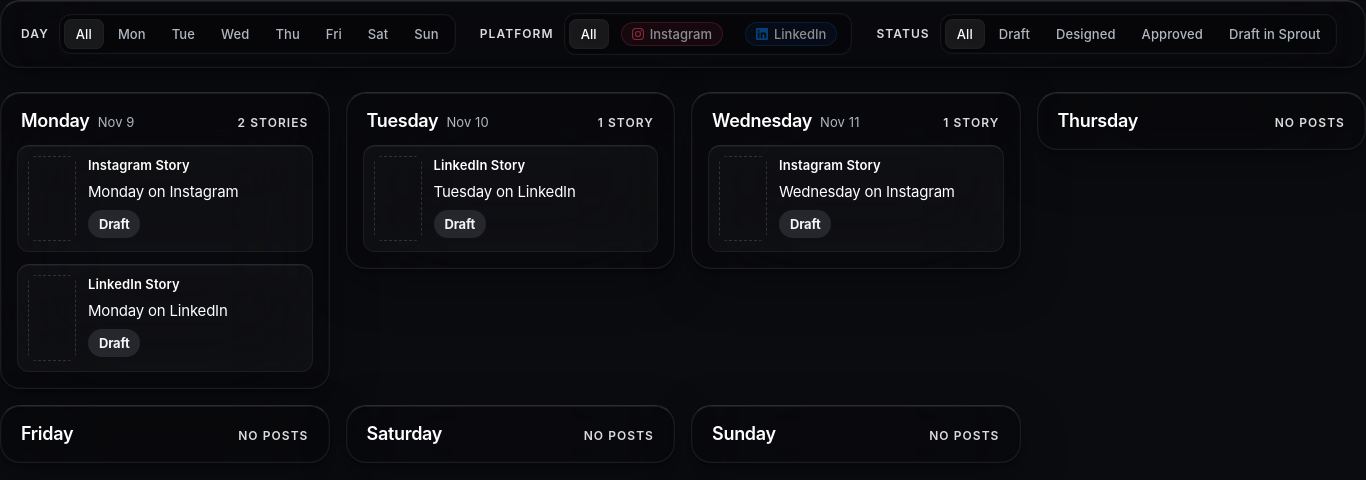
Test case: the client calendar and a report's content ideas › hide what the platform filter leaves out and count what is left beside the filter
This screenshot has width=1366, height=480.
Expected: the text "Monday on LinkedIn" is shown, x1=88 y1=301 x2=228 y2=320
Click the button "Instagram" at x=672, y=34, box x1=611 y1=18 x2=733 y2=50
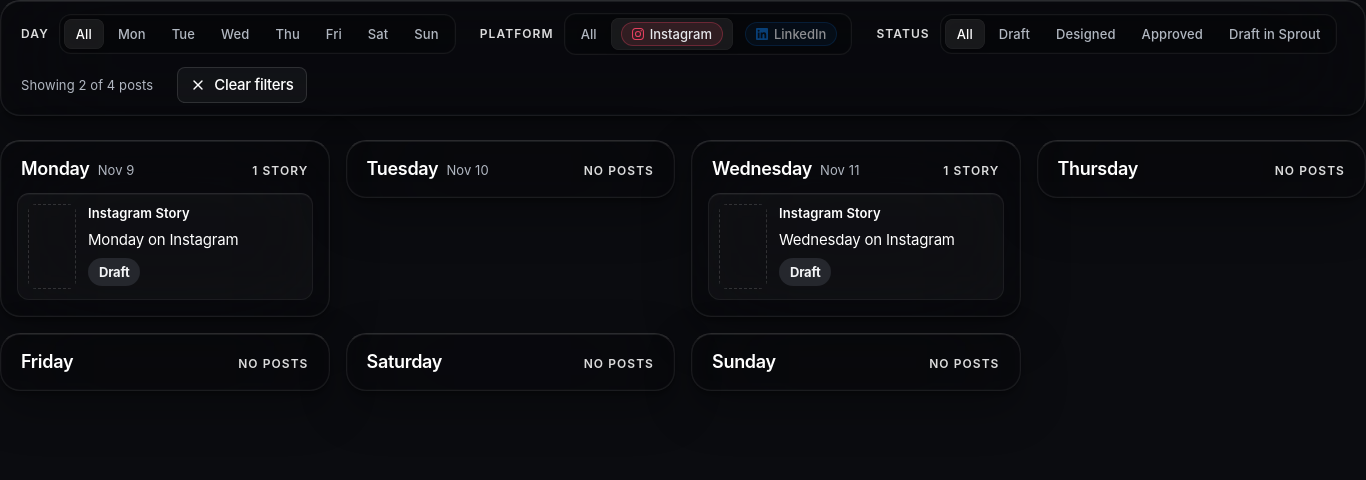
Expected: the text "Monday on LinkedIn" is gone
Expected: the text "Showing 2 of 4 posts" is shown, x1=21 y1=76 x2=153 y2=94
Expected: the text "No posts" next to "Nov 10" is shown, x1=584 y1=163 x2=654 y2=178
